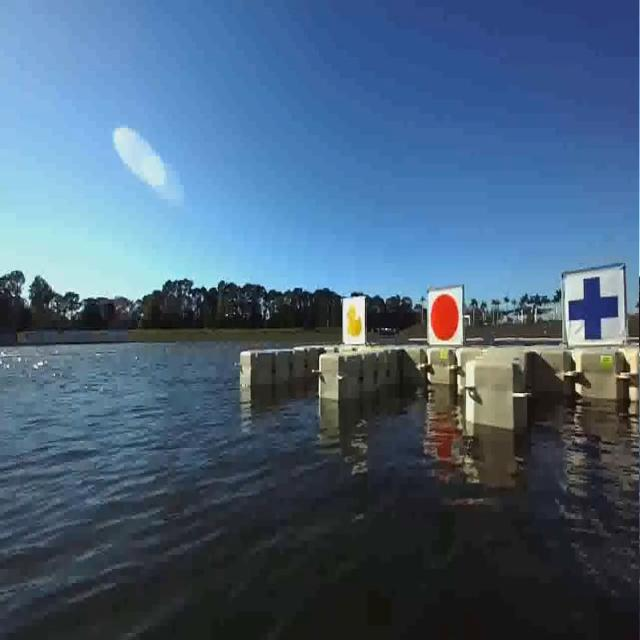blue-cross: (561, 273, 625, 343)
red-dot: (427, 290, 463, 342)
yellow-duck: (343, 296, 365, 344)
